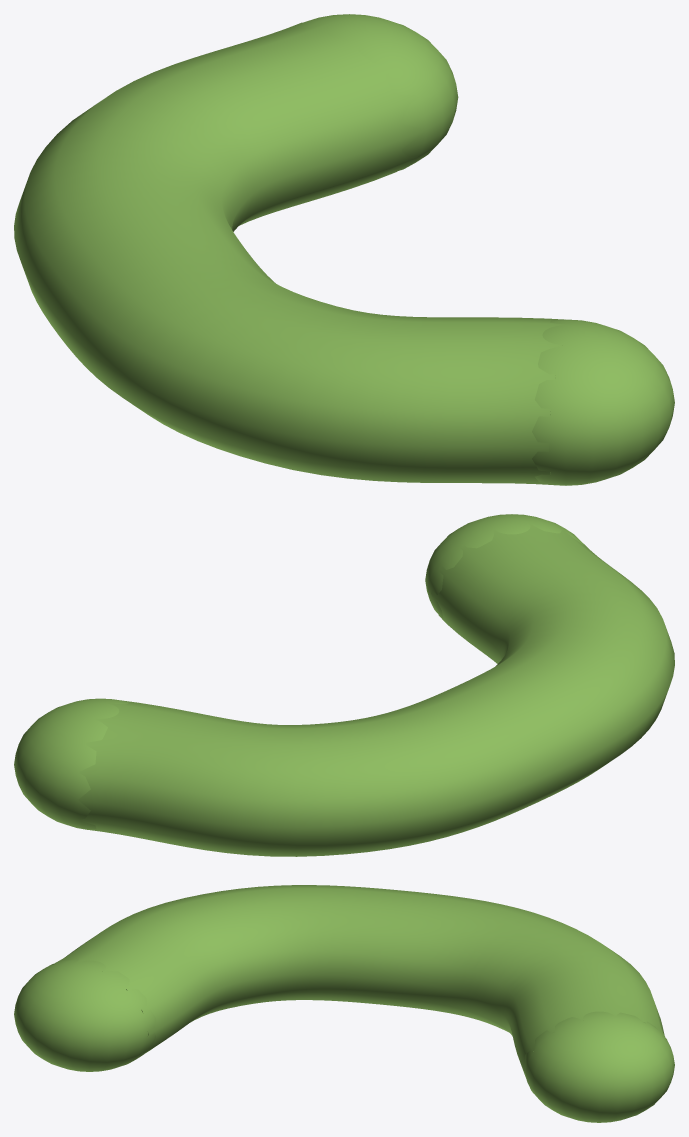
Rendered from moon.glb.
3 views of the same model, one above another, from view 1: azimuth 30°, elevation 25°; view 2: azimuth 150°, elevation 25°; view 3: azimuth 270°, elevation 25° (orthographic). The views are drawn at different scales.
Parts seen in each view (by area): view 1: Crescent, Crescent round end, Crescent round end.001; view 2: Crescent, Crescent round end.001, Crescent round end; view 3: Crescent, Crescent round end.001, Crescent round end.
Boxes of the visible parts, x1,y1,x2,y2 form: Crescent: (14,22,569,484); Crescent round end: (532,319,674,485); Crescent round end.001: (295,14,458,174); Crescent: (77,523,674,856); Crescent round end.001: (14,698,128,829); Crescent round end: (425,514,584,618); Crescent: (52,885,665,1076); Crescent round end.001: (525,1011,674,1122); Crescent round end: (14,958,155,1071).
Size of the model in its own units: 1.28 by 0.308 by 1.92.
